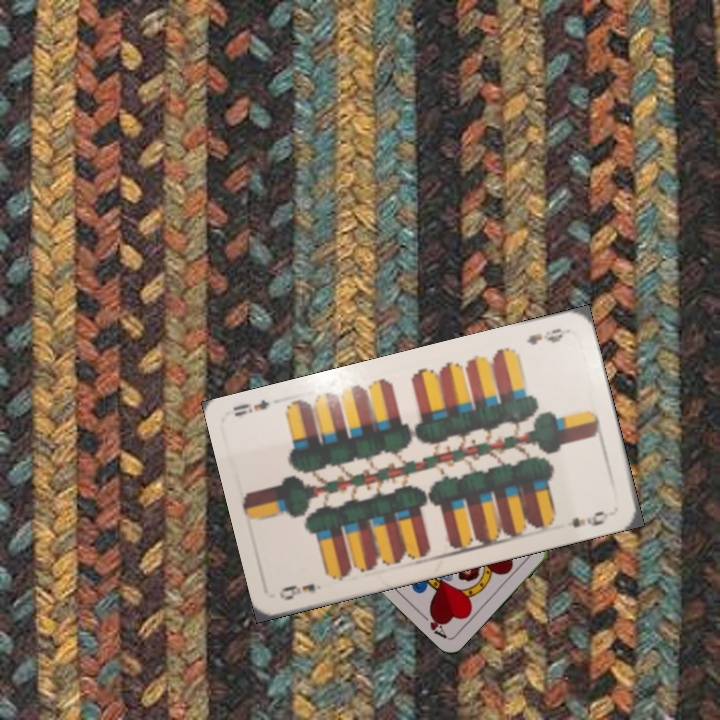E9: (522, 324, 566, 348), (275, 579, 318, 603)
